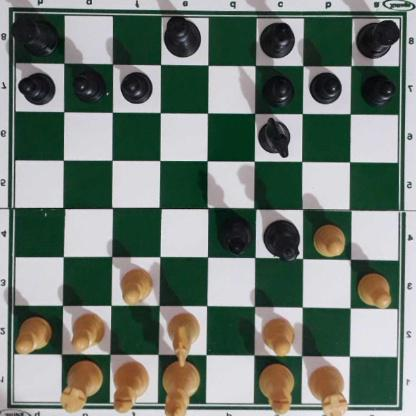black-bishop: (257, 22, 298, 59), (218, 213, 255, 254)
black-king: (163, 14, 204, 55)
black-knight: (260, 116, 293, 155)
black-pawn: (20, 69, 56, 105), (121, 68, 154, 102), (73, 67, 105, 101), (363, 72, 396, 104), (312, 70, 343, 104), (264, 72, 295, 106)
black-queen: (265, 219, 302, 260)
black-rook: (11, 10, 58, 55), (356, 16, 404, 58)
white-bishop: (257, 361, 297, 416), (114, 361, 151, 411)
white-king: (161, 359, 201, 416)
white-knight: (166, 312, 201, 368)
white-pawn: (69, 310, 107, 350), (16, 314, 53, 351), (312, 220, 349, 257), (262, 316, 296, 356), (121, 266, 156, 304), (358, 271, 394, 307)
white-rook: (59, 363, 103, 413), (310, 363, 348, 416)
